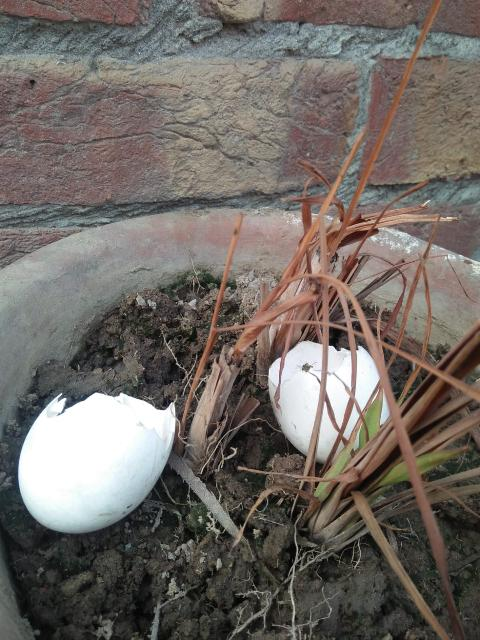Roto: (17, 390, 177, 534), (266, 340, 392, 464)
